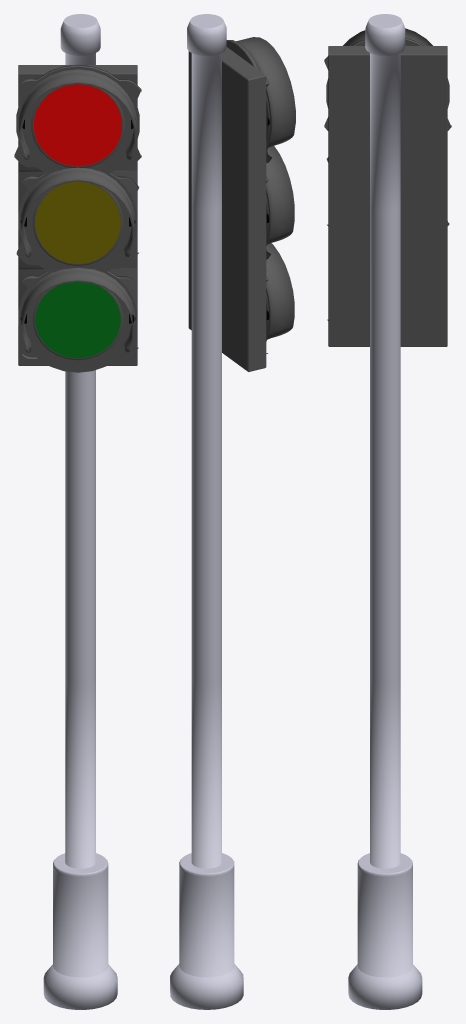
File: KirmiziTrafikLambasi.dae
3 views of the same model, side by side, from view 1: azimuth 90°, elevation 25°; view 2: azimuth 210°, elevation 25°; view 3: azimuth 270°, elevation 25° (orthographic).
Parts seen in each view (by area): view 1: tab, light-red, light-yellow, light-green, light-tab; view 2: tab, light-tab, light-red, light-yellow, light-green; view 3: tab, light-tab, light-red.
Part boxes in pixels (box(x1,y1,x2,y2)): tab: box(43, 14, 117, 1009); light-red: box(14, 64, 141, 174); light-yellow: box(16, 167, 139, 272); light-green: box(18, 267, 138, 372); light-tab: box(18, 65, 137, 365); tab: box(170, 14, 243, 1009); light-tab: box(188, 47, 266, 371); light-red: box(226, 37, 295, 163); light-yellow: box(266, 145, 294, 259); light-green: box(266, 243, 294, 353); tab: box(348, 14, 422, 1009); light-tab: box(328, 46, 447, 346); light-red: box(324, 28, 451, 130).
Size of the model in its own units: 0.2618 by 0.32 by 2.7.
